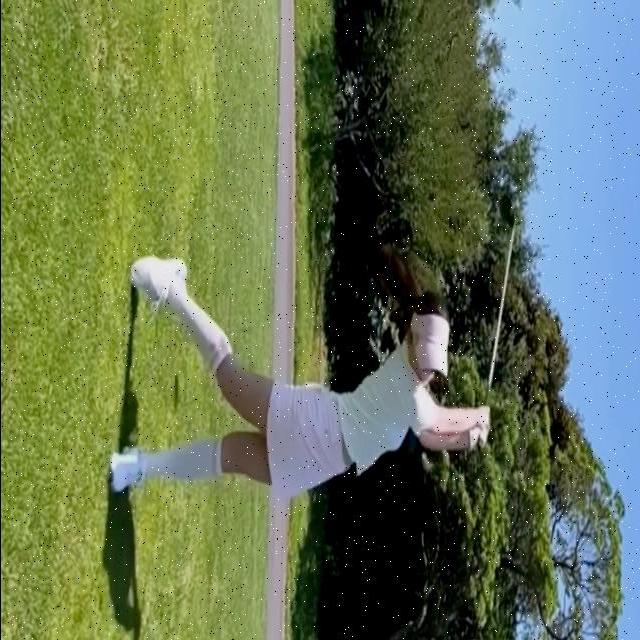golf club-handle: (466, 191, 517, 455)
golf club-head: (498, 194, 514, 229)
